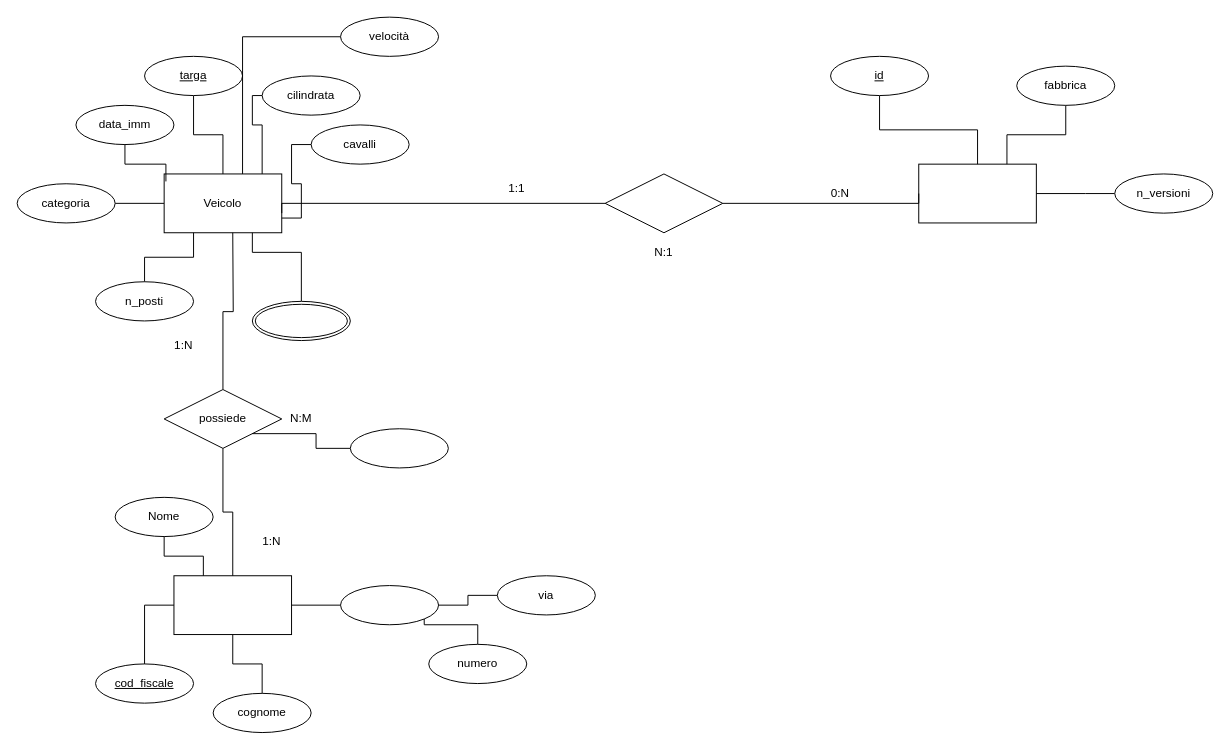
Some shapes in this 1230 by 750 pixel diagram are drawn without their labels. Each missing label, with the centre of its shape:
combustibile: (x=300, y=320)
data possesso: (x=398, y=448)
ha: (x=663, y=203)
indirizzo: (x=389, y=605)
Modello: (x=977, y=193)
Proprietario: (x=232, y=605)
